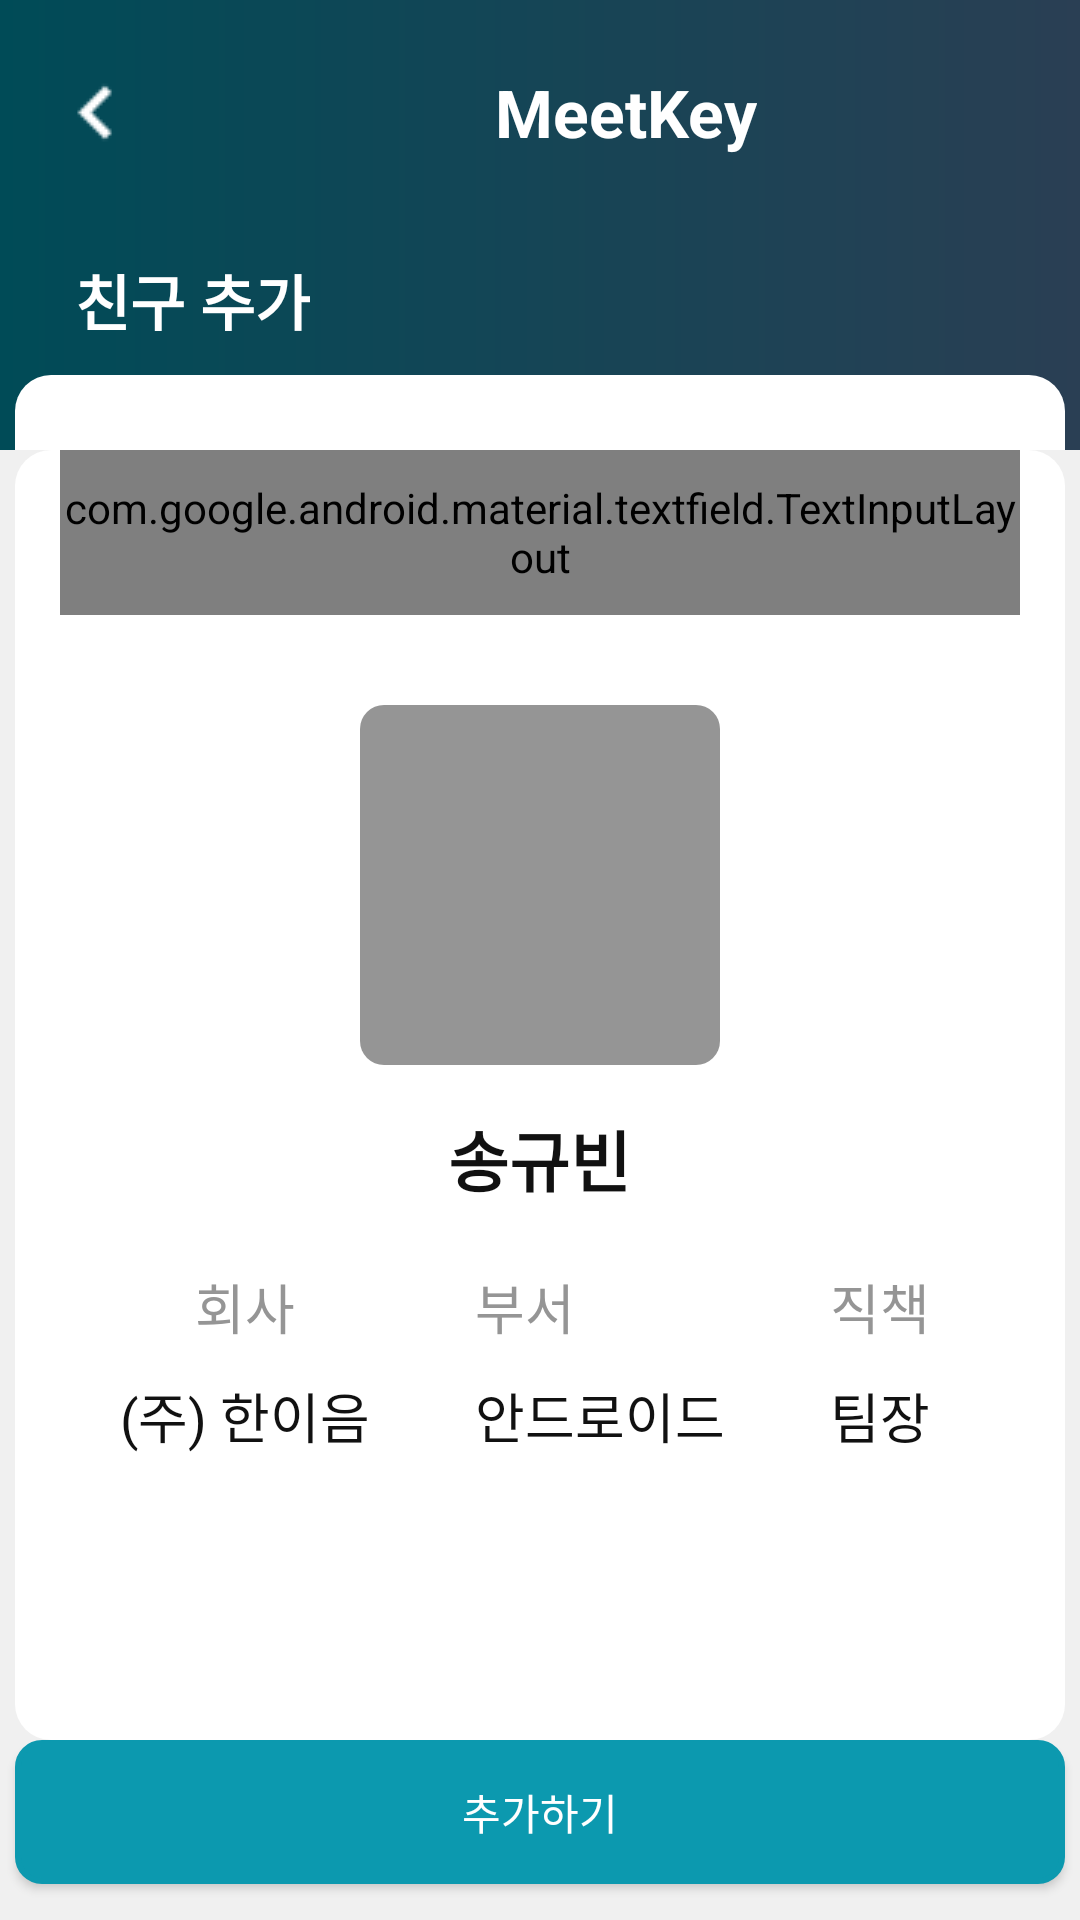

Icons on this 1080 x 1920 Android screen, each with the point to tap as (x,y):
back: (94,112)
